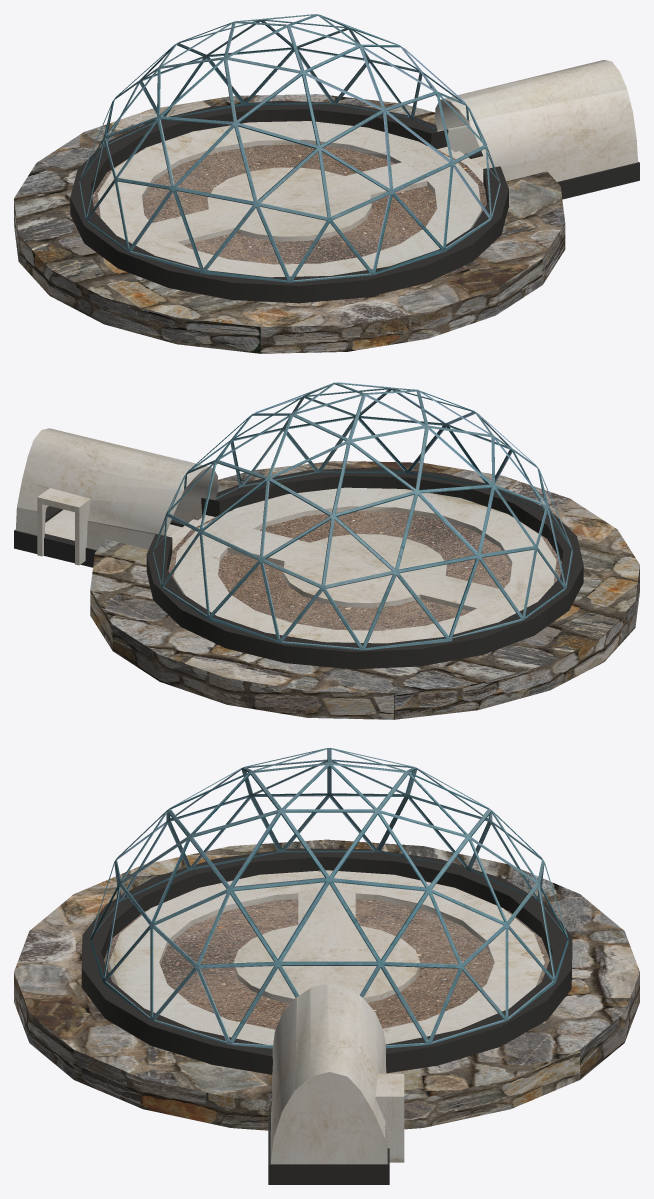
The model's file is Domo.obj.
3 renders of one model, top to bottom at view 1: azimuth 30°, elevation 25°; view 2: azimuth 150°, elevation 25°; view 3: azimuth 270°, elevation 25°, orthographic. The views are drawn at different scales.
Visible parts, largest first — view 1: pCylinder11, pCylinder17, polySurface49, polySurface81 pCylinder6, polySurface2, polySurface84 pCylinder12, pCube5; view 2: pCylinder11, pCylinder17, polySurface49, polySurface81 pCylinder6, polySurface2, polySurface84 pCylinder12, pasted__pCube7, pCube5, pCylinder12 polySurface85; view 3: pCylinder11, pCylinder17, polySurface49, polySurface81 pCylinder6, polySurface2, polySurface84 pCylinder12, pCube5, pasted__pCube7.
Boxes of the visible parts, left/top/right/bottom form: pCylinder11: left=14, top=94, right=565, bottom=353; pCylinder17: left=97, top=121, right=481, bottom=277; polySurface49: left=79, top=14, right=500, bottom=282; polySurface81 pCylinder6: left=70, top=100, right=508, bottom=303; polySurface2: left=435, top=60, right=637, bottom=181; polySurface84 pCylinder12: left=92, top=144, right=486, bottom=264; pCube5: left=464, top=151, right=639, bottom=199; pCylinder11: left=90, top=461, right=639, bottom=719; pCylinder17: left=173, top=487, right=556, bottom=643; polySurface49: left=152, top=382, right=572, bottom=650; polySurface81 pCylinder6: left=146, top=467, right=583, bottom=669; polySurface2: left=16, top=428, right=218, bottom=549; polySurface84 pCylinder12: left=168, top=511, right=561, bottom=630; pasted__pCube7: left=37, top=488, right=90, bottom=565; pCube5: left=14, top=506, right=188, bottom=567; pCylinder12 polySurface85: left=44, top=509, right=181, bottom=540; pCylinder11: left=14, top=839, right=639, bottom=1130; pCylinder17: left=109, top=870, right=544, bottom=1045; polySurface49: left=90, top=748, right=568, bottom=1048; polySurface81 pCylinder6: left=81, top=848, right=572, bottom=1074; polySurface2: left=270, top=984, right=387, bottom=1164; polySurface84 pCylinder12: left=104, top=899, right=549, bottom=1029; pCube5: left=268, top=1114, right=389, bottom=1184; pasted__pCube7: left=375, top=1073, right=404, bottom=1162.
Size of the model in its own units: 22.1 by 8.07 by 18.79.
6 materials, 6 textured.
